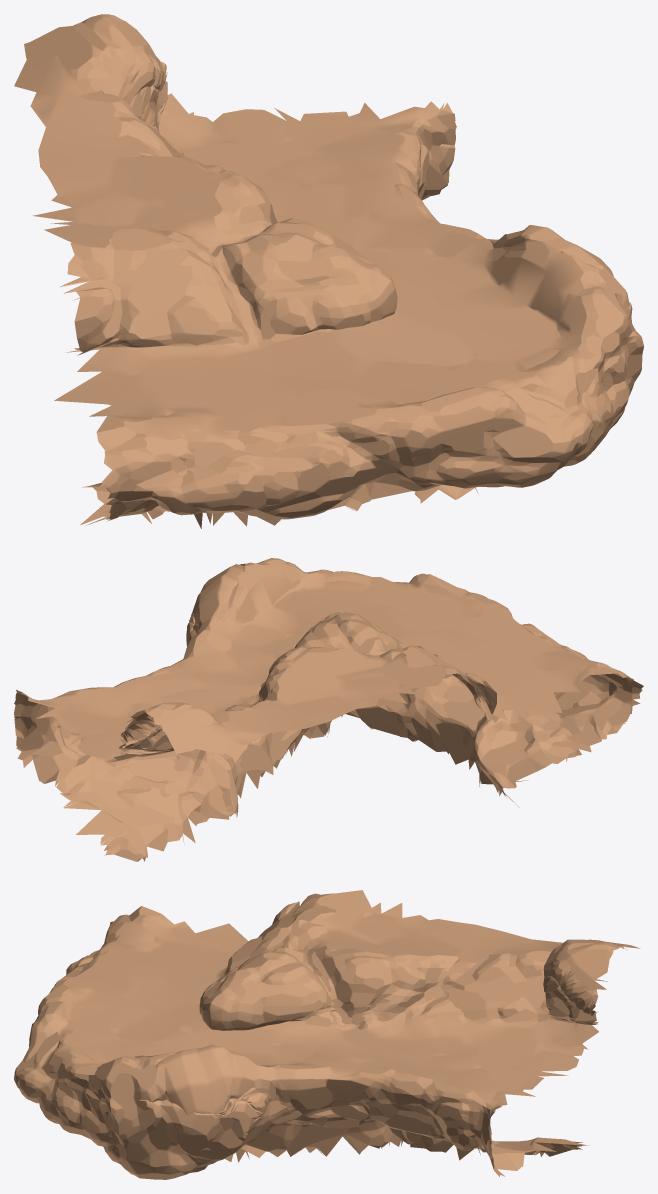
Rendered from SandstoneBig_Mesh_40_002LODs.fbx.
The picture shows the model from 3 angles, top to bottom: view 1: azimuth 30°, elevation 25°; view 2: azimuth 150°, elevation 25°; view 3: azimuth 270°, elevation 25°; orthographic projection. The views are drawn at different scales.
Visible parts, largest first — view 1: Mesh_40.002_LOD0; view 2: Mesh_40.002_LOD0; view 3: Mesh_40.002_LOD0.
Boxes of the visible parts, box(x1,y1,x2,y2) form: Mesh_40.002_LOD0: box(14, 14, 643, 528); Mesh_40.002_LOD0: box(14, 558, 643, 861); Mesh_40.002_LOD0: box(14, 890, 640, 1179).
Size of what is drawn, in the model's own units: 9397 by 3984 by 11380.
